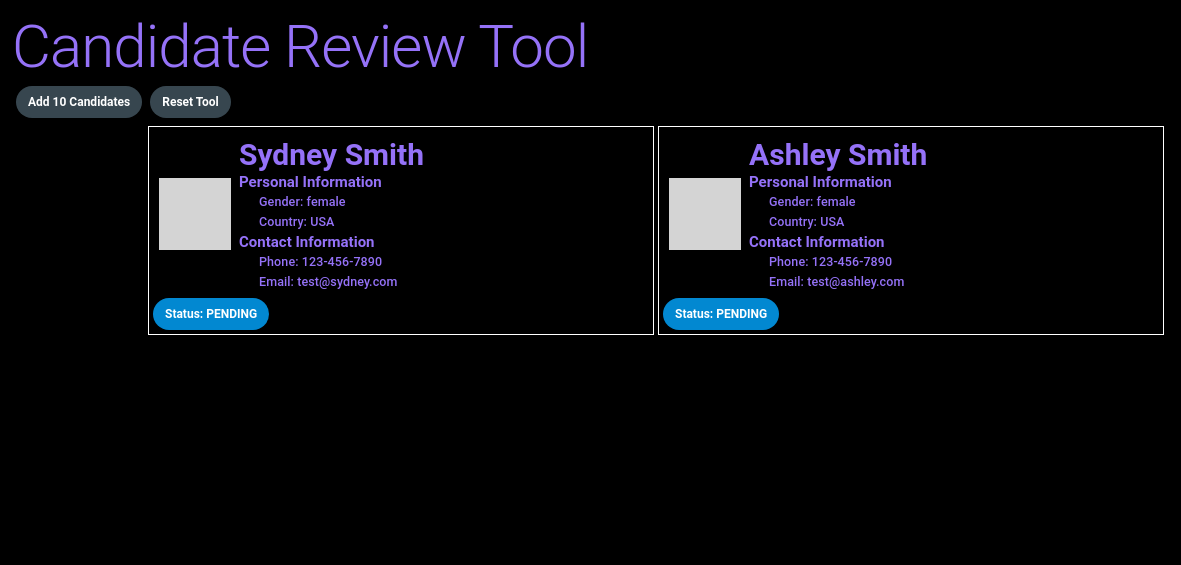
Test: reset tool  button
expect the number of elements with test id "candidate-overview" is 2: met, box left=148, top=126, right=654, bottom=335; left=658, top=126, right=1164, bottom=335
What coordinates should you click on to do the following:
click the button "Add 10 Candidates"
I would click on:
 (79, 102)
Its box is left=16, top=86, right=142, bottom=118.
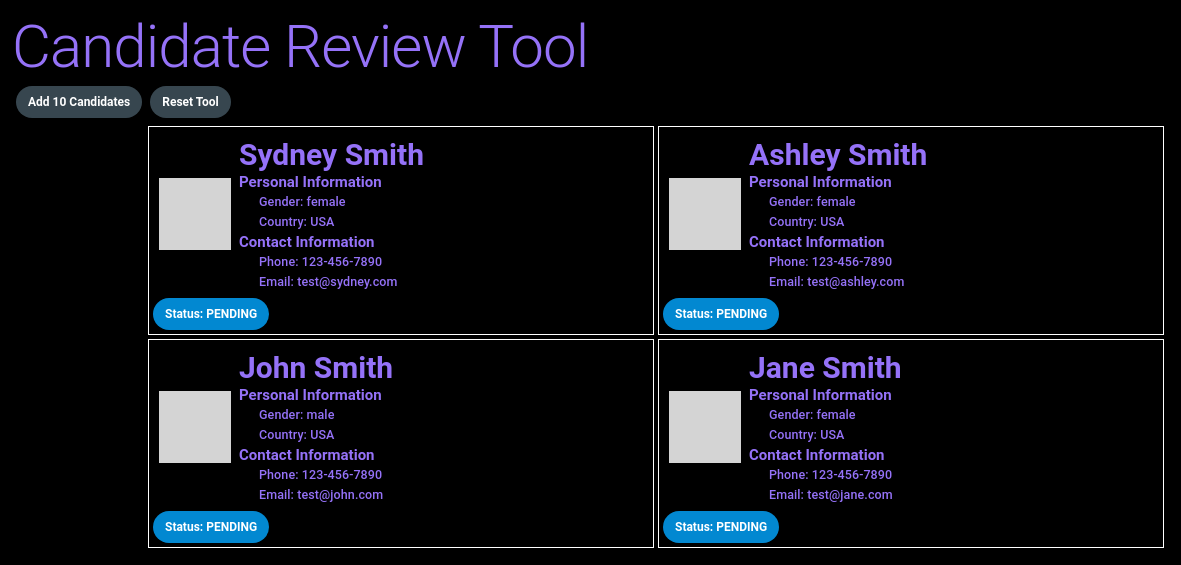
expect the number of elements with test id "candidate-overview" is 4: met, box left=148, top=126, right=654, bottom=335; left=658, top=126, right=1164, bottom=335; left=148, top=339, right=654, bottom=548; left=658, top=339, right=1164, bottom=548
What coordinates should you click on to do the following:
click the button "Reset Tool"
I would click on:
 (191, 102)
Its box is left=150, top=86, right=231, bottom=118.
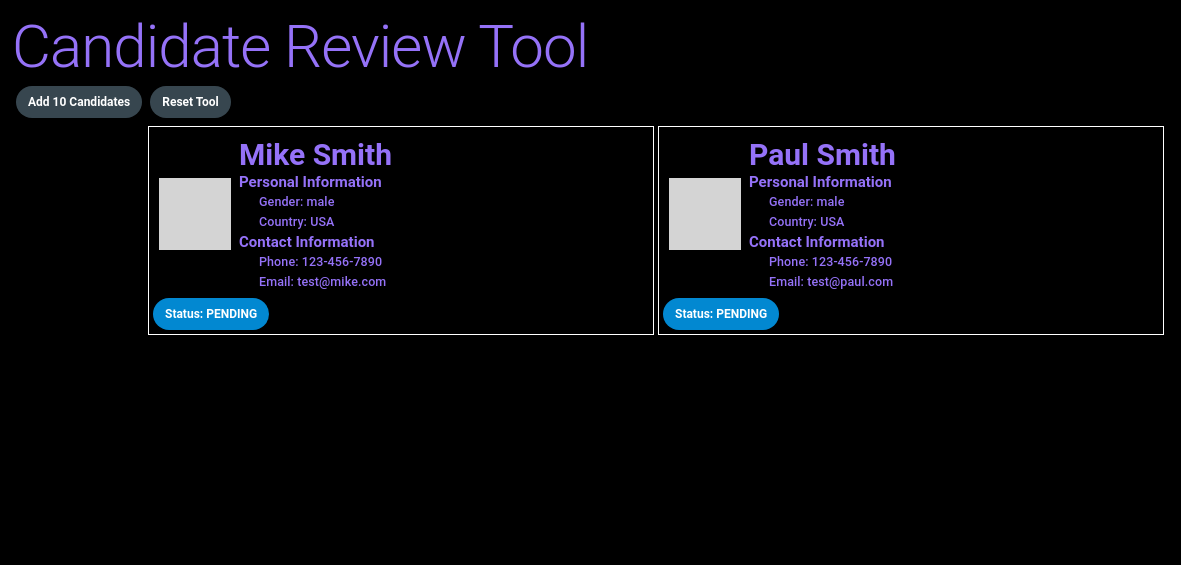
expect the number of elements with test id "candidate-overview" is 2: met, box left=148, top=126, right=654, bottom=335; left=658, top=126, right=1164, bottom=335
